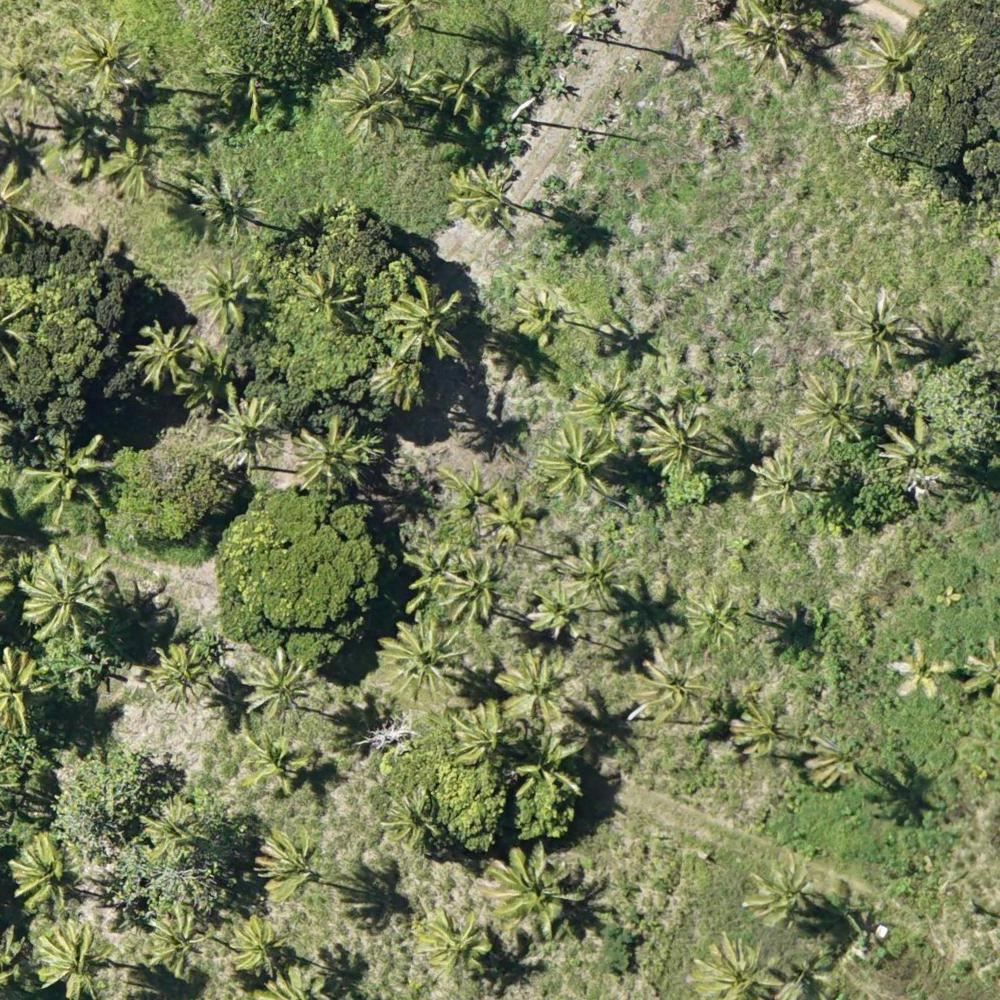Palm: (24, 552, 109, 645), (23, 429, 112, 516), (489, 848, 580, 930), (376, 621, 468, 700), (386, 276, 469, 362), (37, 916, 118, 996), (333, 60, 412, 142), (724, 1, 804, 80), (797, 371, 880, 445), (635, 650, 718, 722), (422, 902, 497, 981), (692, 931, 777, 1000), (243, 650, 320, 726), (6, 834, 81, 912), (539, 425, 617, 500), (746, 854, 821, 931), (66, 25, 145, 97), (884, 413, 952, 494), (856, 21, 928, 97), (254, 828, 325, 905), (213, 397, 284, 474), (496, 649, 570, 722), (295, 418, 366, 494), (836, 292, 906, 368), (186, 168, 261, 236), (192, 256, 265, 325), (520, 731, 591, 801), (748, 447, 819, 514), (447, 160, 514, 231), (638, 405, 704, 475), (145, 902, 205, 976), (439, 555, 507, 618), (134, 316, 193, 388), (564, 545, 631, 608), (887, 638, 956, 699), (293, 259, 357, 324), (454, 704, 518, 768), (437, 457, 493, 528), (430, 57, 492, 121), (242, 731, 309, 790), (483, 486, 545, 549), (145, 800, 207, 861), (229, 914, 288, 975), (531, 580, 590, 640), (681, 591, 746, 645), (808, 727, 867, 785), (390, 789, 446, 849), (732, 698, 792, 754), (572, 372, 635, 425), (102, 139, 155, 201), (512, 292, 567, 349), (154, 648, 208, 706), (2, 46, 47, 110)
